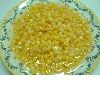corn: (7, 0, 95, 75)
